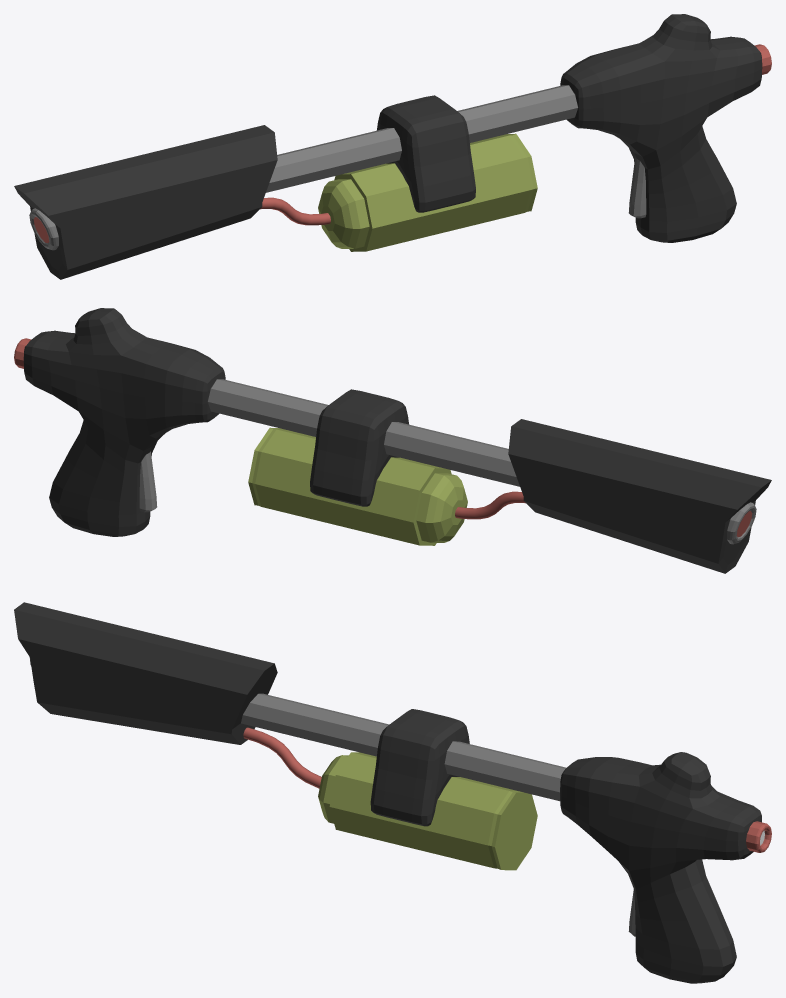
Rendered from flamethrower.glb.
3 views of the same model, one above another, from view 1: azimuth 30°, elevation 25°; view 2: azimuth 150°, elevation 25°; view 3: azimuth 330°, elevation 25° (orthographic).
Visible parts, largest first — view 1: Cube, Cube.002, Cylinder.001, Cylinder, Cube.001, BézierCurve, Cube.003, Torus.001; view 2: Cube, Cube.002, Cylinder.001, Cylinder, Cube.001, BézierCurve, Cube.003, Torus.001; view 3: Cube, Cube.002, Cylinder.001, Cylinder, Cube.001, BézierCurve.
Part boxes in pixels (left/top/right/bottom): Cube: left=560, top=14, right=762, bottom=242; Cube.002: left=14, top=125, right=277, bottom=279; Cylinder.001: left=318, top=133, right=537, bottom=251; Cylinder: left=266, top=85, right=577, bottom=192; Cube.001: left=377, top=95, right=475, bottom=212; BézierCurve: left=260, top=197, right=330, bottom=225; Cube.003: left=628, top=157, right=646, bottom=218; Torus.001: left=29, top=208, right=58, bottom=250; Cube: left=23, top=308, right=225, bottom=536; Cube.002: left=508, top=419, right=771, bottom=573; Cylinder.001: left=248, top=427, right=467, bottom=545; Cylinder: left=208, top=379, right=519, bottom=486; Cube.001: left=310, top=389, right=408, bottom=506; BézierCurve: left=455, top=491, right=525, bottom=519; Cube.003: left=139, top=451, right=157, bottom=512; Torus.001: left=727, top=502, right=756, bottom=544; Cube: left=560, top=752, right=761, bottom=983; Cube.002: left=14, top=602, right=277, bottom=744; Cylinder.001: left=318, top=752, right=537, bottom=870; Cylinder: left=241, top=693, right=566, bottom=801; Cube.001: left=370, top=709, right=469, bottom=826; BézierCurve: left=243, top=727, right=321, bottom=788.
Bounding box in the file's own units: 4.25 × 1.18 × 0.5147.
